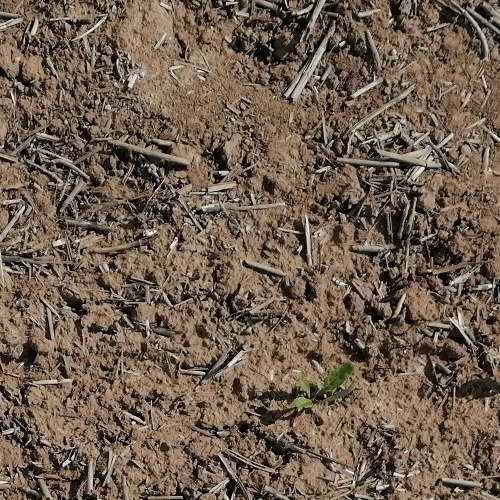beet: (289, 364, 354, 411)
